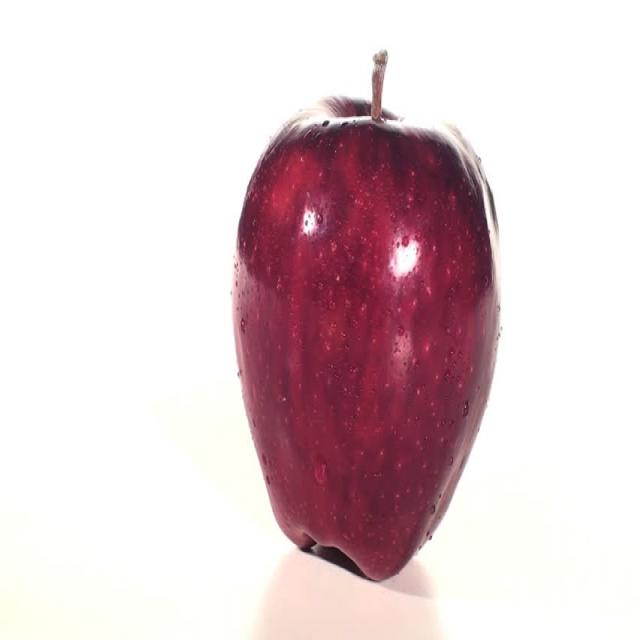Apple: (231, 47, 496, 587)
